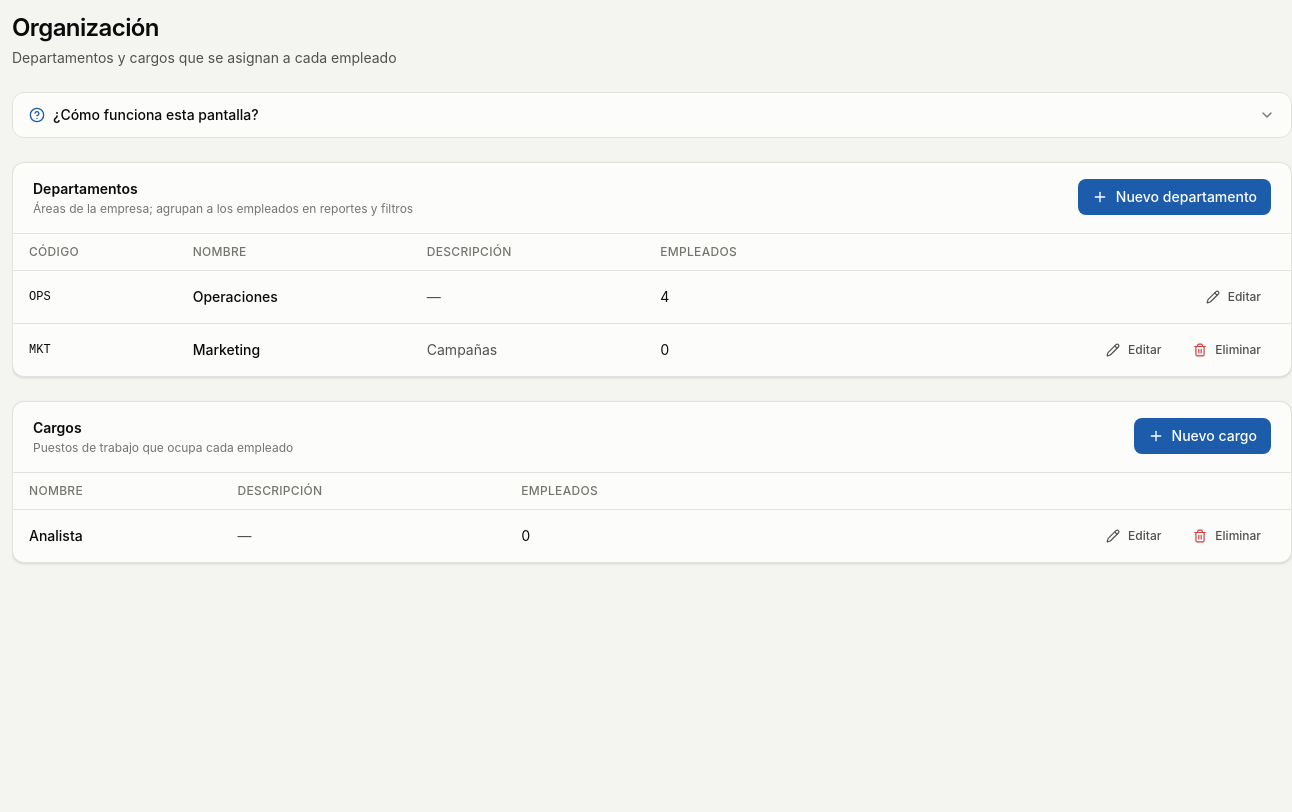
Test case: OrganizationPage › creates a department
The image size is (1292, 812).
Click the button "Nuevo departamento" at (1174, 197), box 1078,179 -> 1271,215
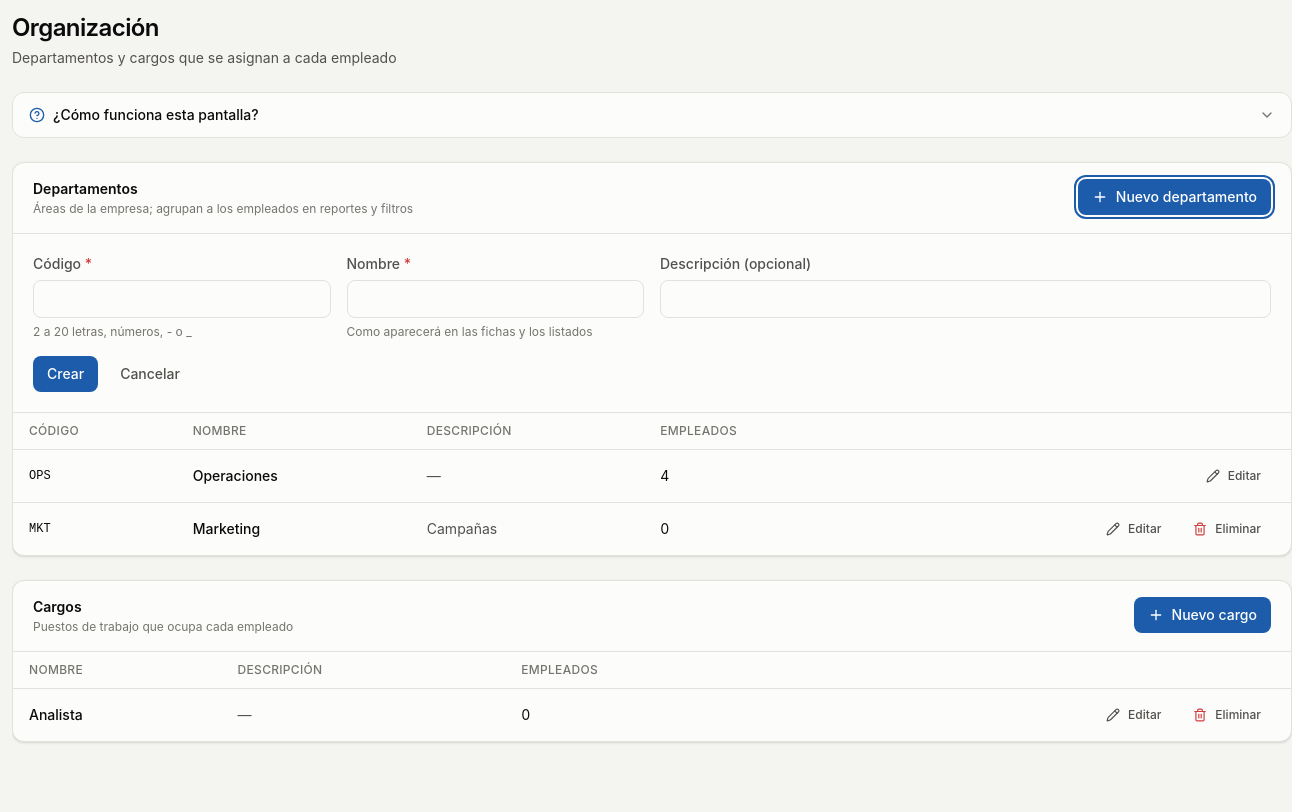
Type "LOG" into the field labelled "Código" at (182, 299), box 33,280 -> 330,318
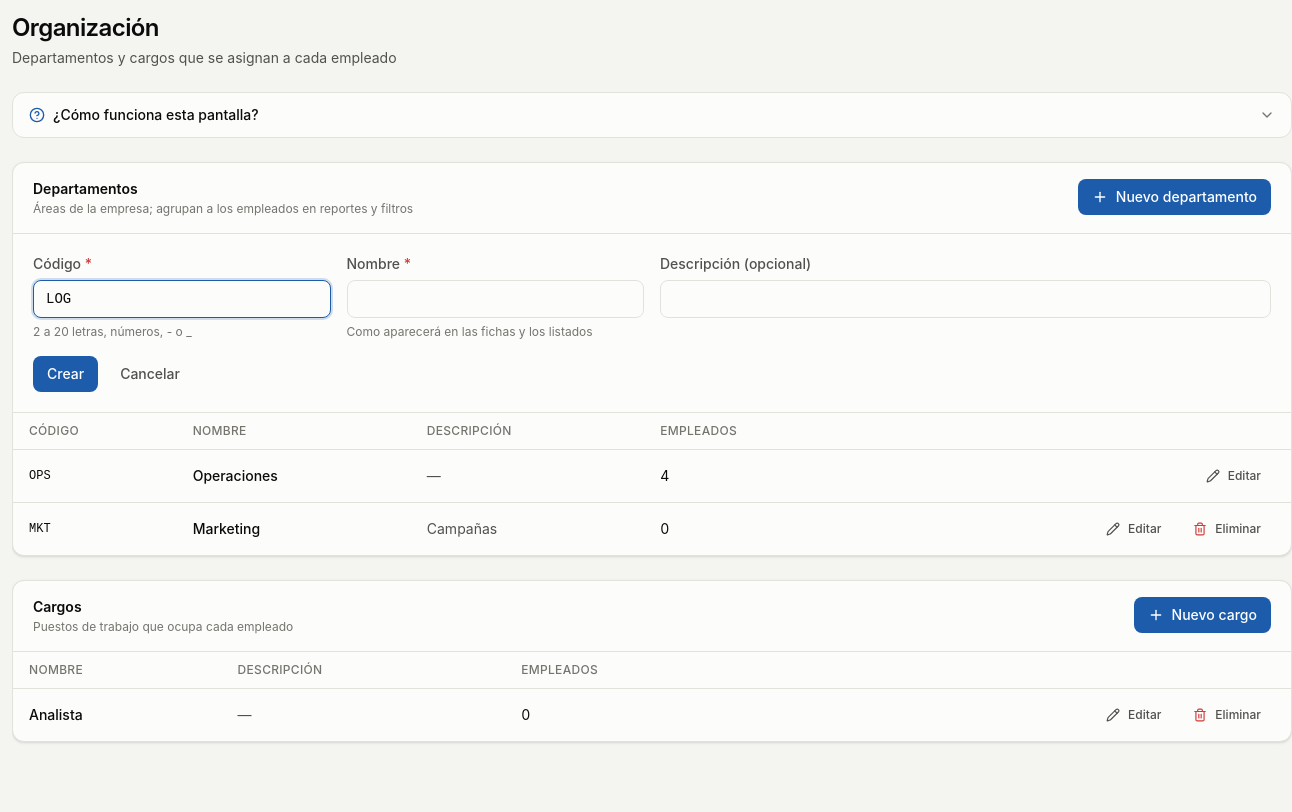
Type "Logística" into the field labelled "Nombre" at (495, 299), box 346,280 -> 644,318
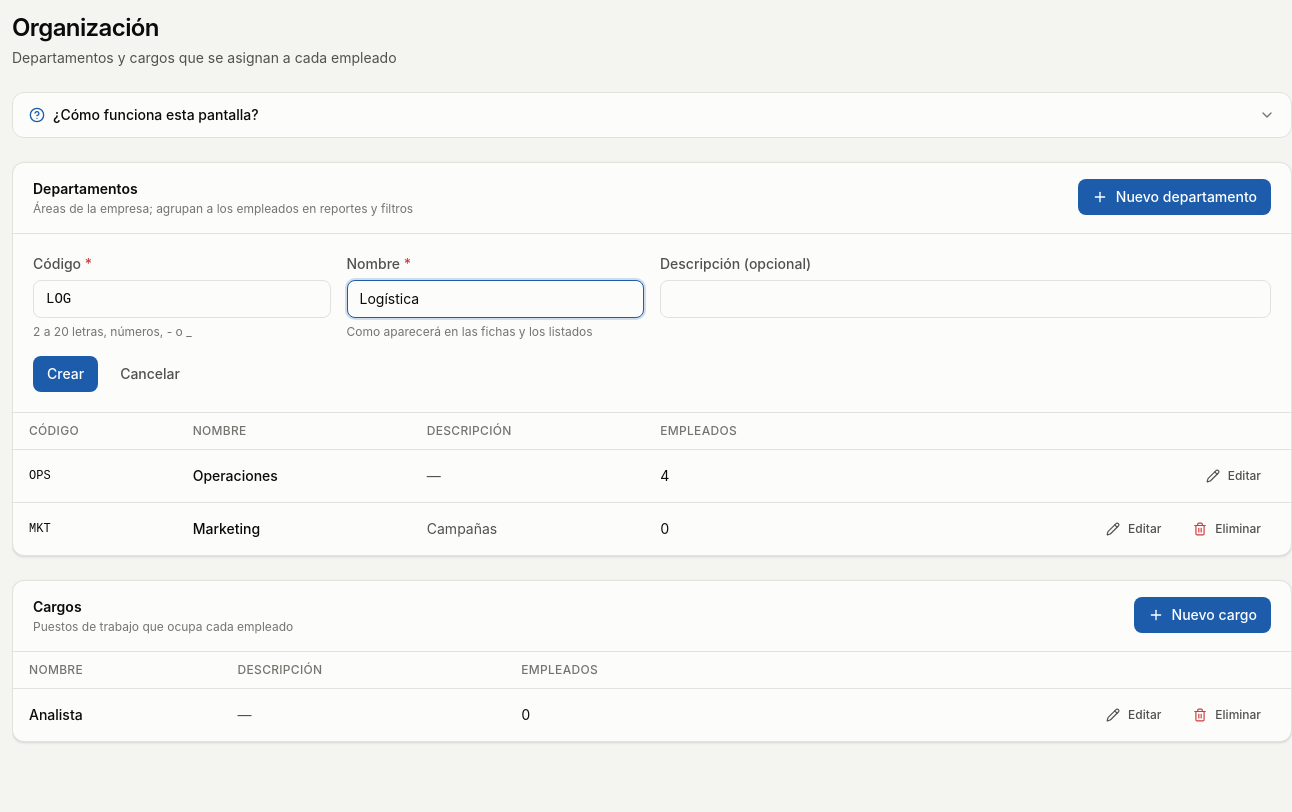
Click the button "Crear" at (66, 374), box 33,356 -> 98,392
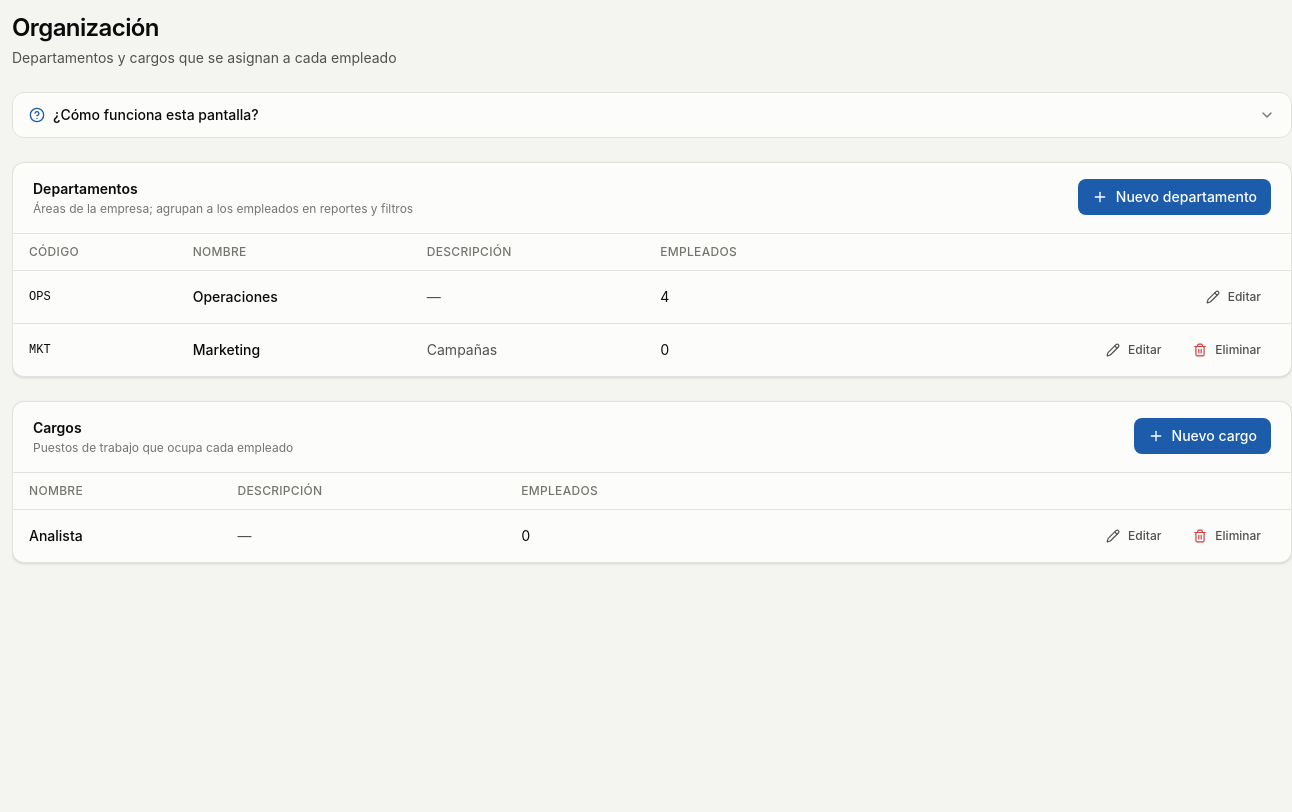
Expected: the form is gone
